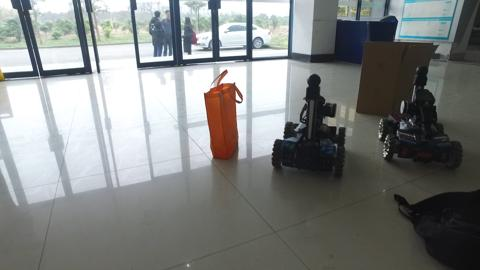bag: (201, 68, 241, 163)
chariot: (378, 66, 463, 172), (265, 74, 350, 177)
